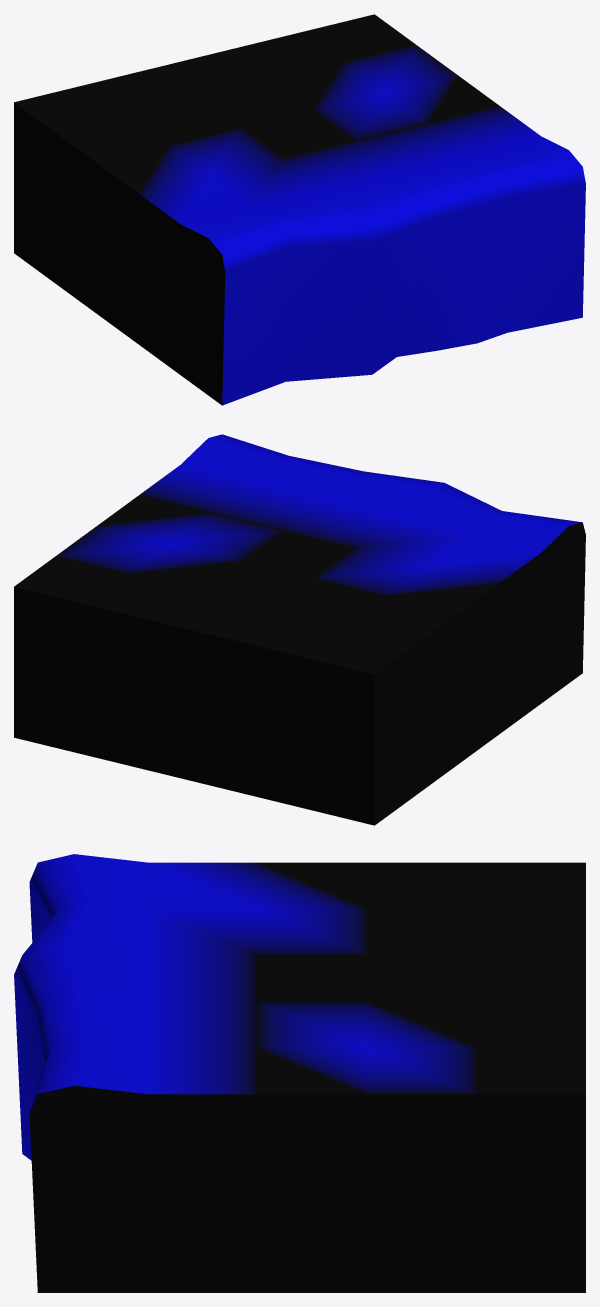
Rendered from Ground_Edge_0.fbx.
3 renders of one model, top to bottom at view 1: azimuth 30°, elevation 25°; view 2: azimuth 150°, elevation 25°; view 3: azimuth 270°, elevation 25°, orthographic. The views are drawn at different scales.
Parts seen in each view (by area): view 1: Ground_Edge_0; view 2: Ground_Edge_0; view 3: Ground_Edge_0.
Boxes of the visible parts, box(x1,y1,x2,y2) form: Ground_Edge_0: box(14, 14, 585, 405); Ground_Edge_0: box(14, 434, 585, 825); Ground_Edge_0: box(14, 854, 585, 1292).
Bounding box in the file's own units: 0.05 × 0.021 × 0.0522.
